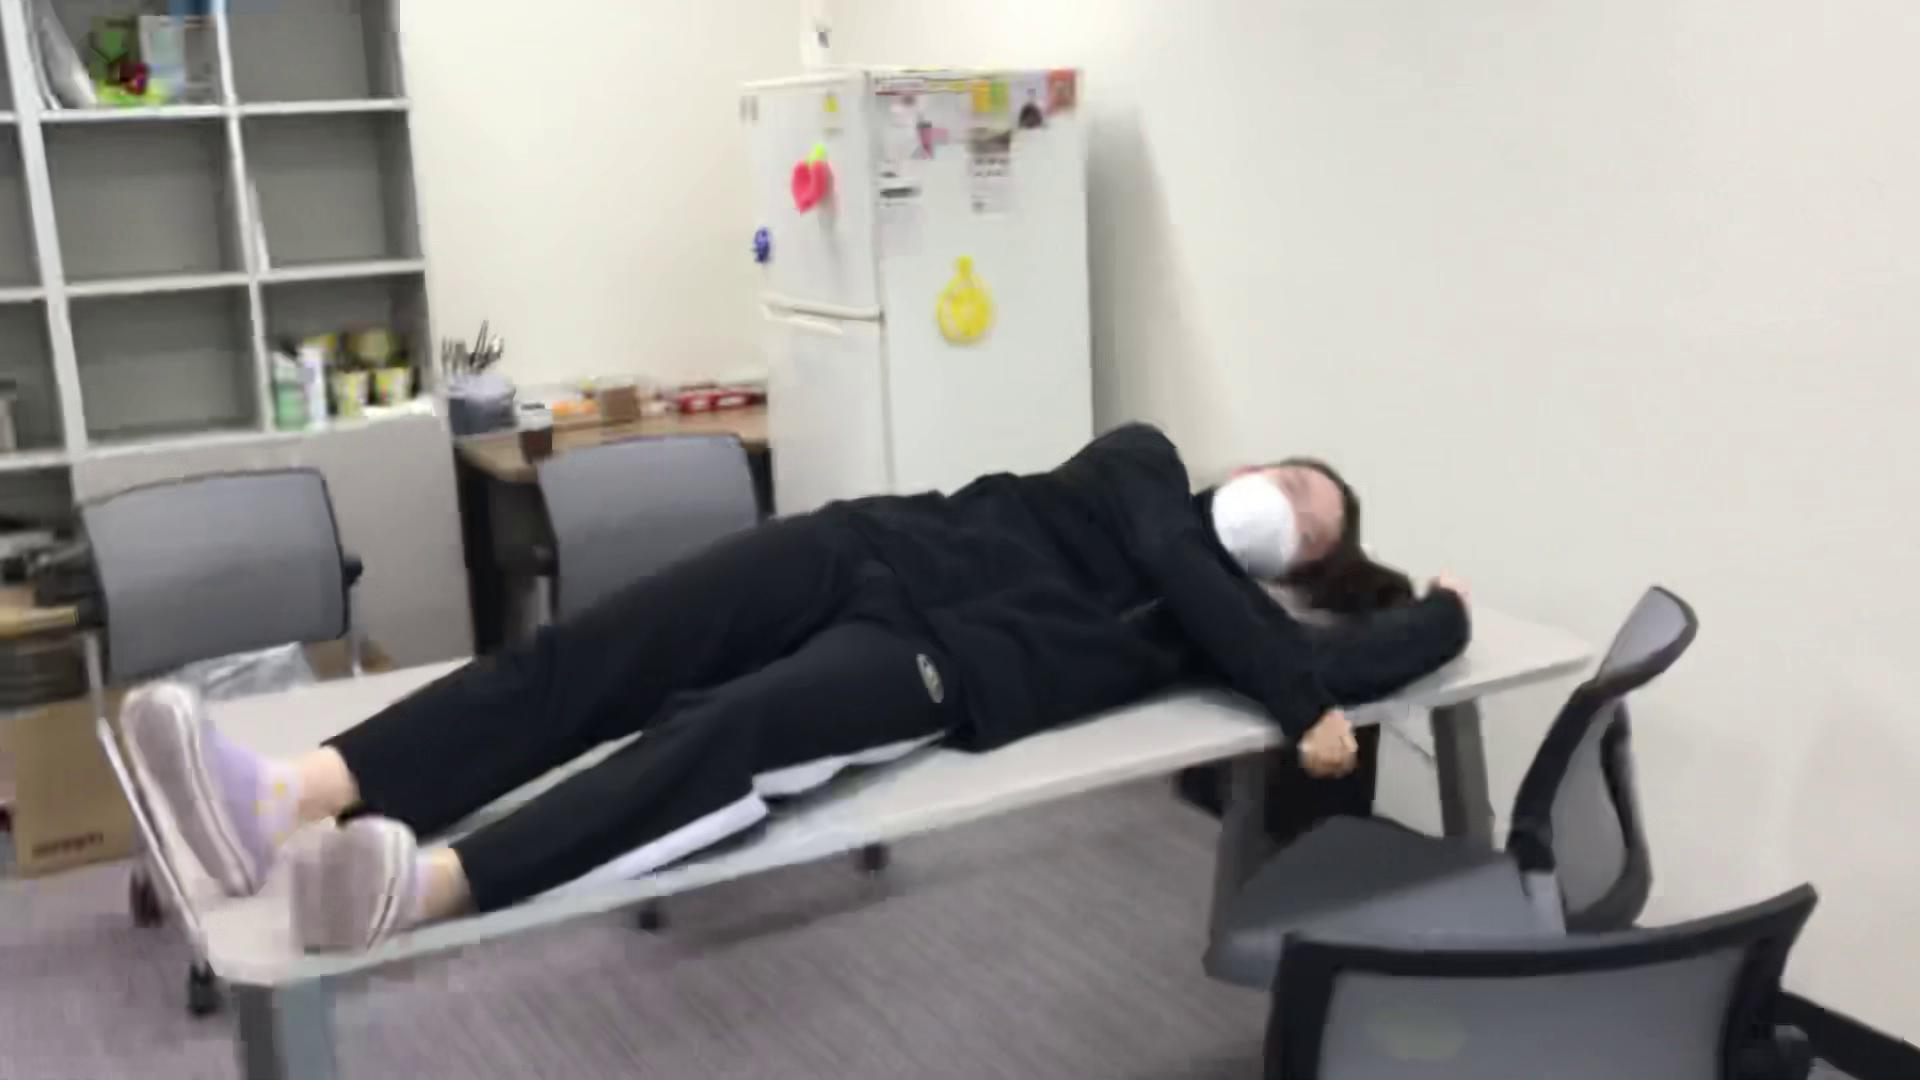sleep: (136, 425, 1374, 982)
